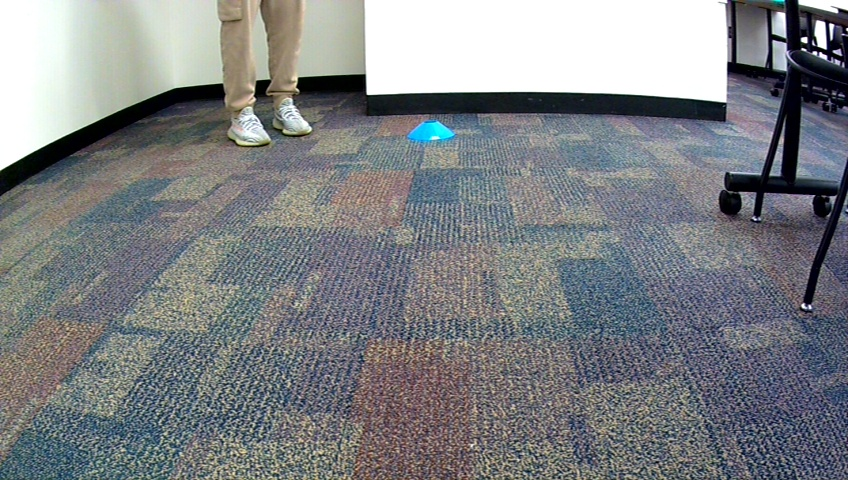cone: (407, 120, 455, 141)
